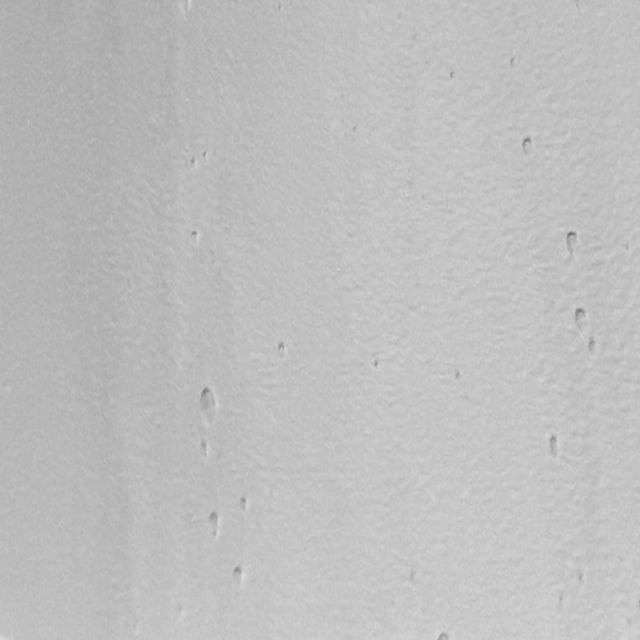pin holes: (195, 383, 222, 424), (560, 228, 584, 261), (544, 430, 566, 460), (204, 510, 225, 541), (570, 305, 591, 334), (519, 135, 539, 159), (274, 339, 294, 362), (230, 564, 248, 589), (197, 438, 214, 462), (584, 337, 602, 359), (236, 492, 254, 514), (180, 0, 198, 18), (370, 356, 387, 374), (188, 228, 204, 246), (576, 570, 589, 588), (199, 150, 213, 165), (188, 156, 201, 172), (452, 370, 465, 385), (436, 629, 455, 639), (509, 54, 517, 72), (448, 70, 458, 83)
